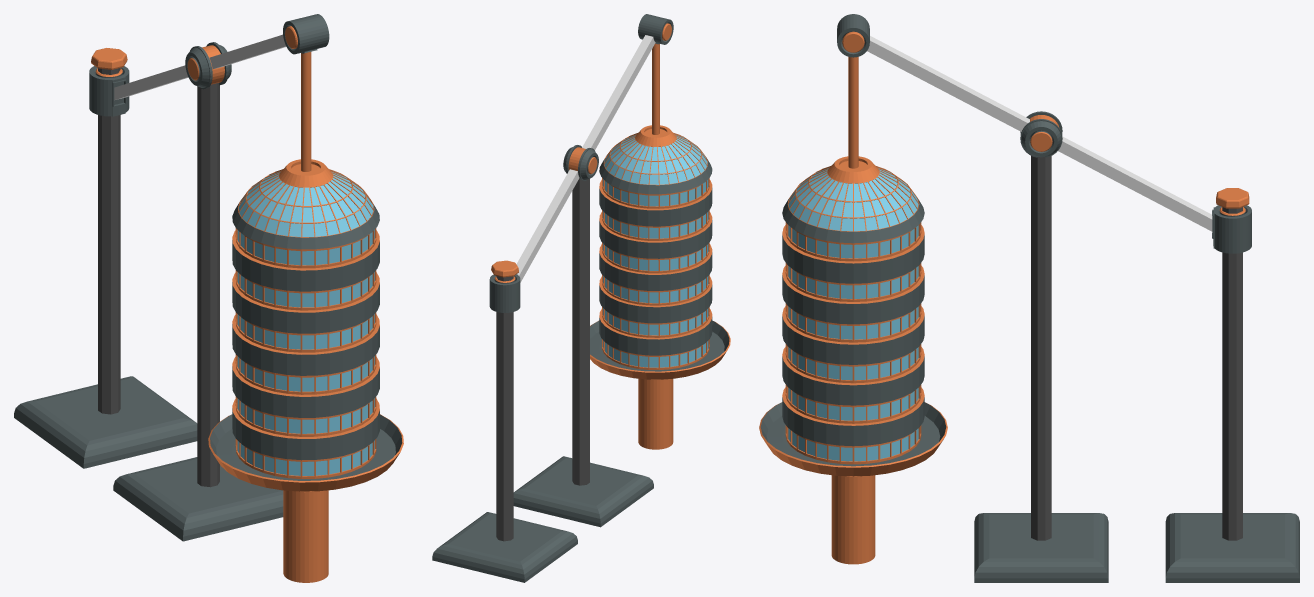
File: Birdhouse_01.fbx
3 renders of one model, left to right at view 1: azimuth 30°, elevation 25°; view 2: azimuth 150°, elevation 25°; view 3: azimuth 270°, elevation 25°, orthographic. The views are drawn at different scales.
Parts seen in each view (by area): view 1: BirdHouse, Balancing-Foundation, Birdhouse-Foundation, BirdHouse_Hydraulic-Base, Connection-Pipe, Joint-Foundation.001, Joint-Birdhouse, Joint-Foundation; view 2: BirdHouse, Birdhouse-Foundation, Balancing-Foundation, Connection-Pipe, BirdHouse_Hydraulic-Base, Joint-Foundation.001, Joint-Foundation, Joint-Birdhouse; view 3: BirdHouse, Birdhouse-Foundation, Balancing-Foundation, Connection-Pipe, BirdHouse_Hydraulic-Base, Joint-Foundation.001, Joint-Foundation, Joint-Birdhouse.
Boxes of the visible parts, x1=… form: BirdHouse: x1=208, y1=52, x2=403, y2=491; Balancing-Foundation: x1=14, y1=48, x2=197, y2=468; Birdhouse-Foundation: x1=113, y1=83, x2=283, y2=541; BirdHouse_Hydraulic-Base: x1=283, y1=490, x2=328, y2=582; Connection-Pipe: x1=114, y1=34, x2=286, y2=100; Joint-Foundation.001: x1=89, y1=66, x2=129, y2=116; Joint-Birdhouse: x1=283, y1=14, x2=329, y2=54; Joint-Foundation: x1=185, y1=42, x2=231, y2=89; BirdHouse: x1=590, y1=43, x2=730, y2=379; Birdhouse-Foundation: x1=513, y1=178, x2=653, y2=527; Balancing-Foundation: x1=432, y1=260, x2=577, y2=582; Connection-Pipe: x1=516, y1=35, x2=655, y2=282; BirdHouse_Hydraulic-Base: x1=638, y1=378, x2=673, y2=449; Joint-Foundation.001: x1=489, y1=274, x2=520, y2=312; Joint-Foundation: x1=563, y1=145, x2=598, y2=180; Joint-Birdhouse: x1=638, y1=14, x2=673, y2=44; BirdHouse: x1=759, y1=57, x2=947, y2=476; Birdhouse-Foundation: x1=974, y1=156, x2=1108, y2=582; Balancing-Foundation: x1=1165, y1=188, x2=1299, y2=582; Connection-Pipe: x1=867, y1=36, x2=1212, y2=231; BirdHouse_Hydraulic-Base: x1=831, y1=475, x2=875, y2=564; Joint-Foundation.001: x1=1212, y1=205, x2=1251, y2=253; Joint-Foundation: x1=1020, y1=111, x2=1062, y2=157; Joint-Birdhouse: x1=837, y1=14, x2=869, y2=57.
Bounding box in the file's own units: 563 × 1756 × 1611.
